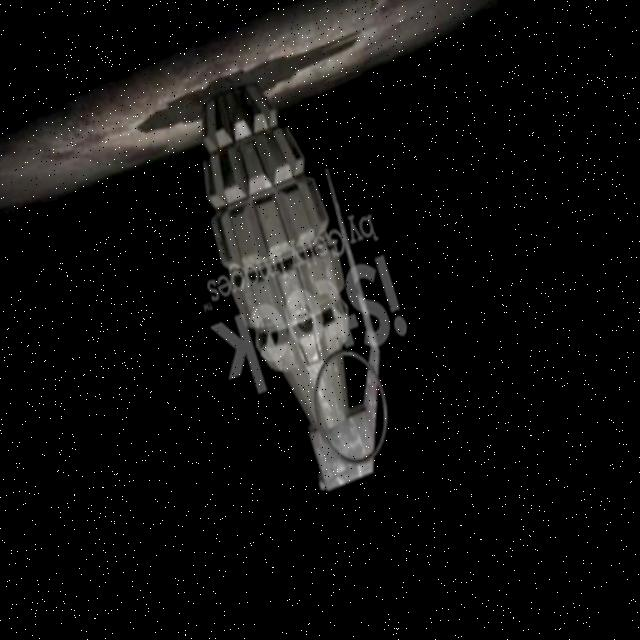grenade: (152, 41, 446, 535)
